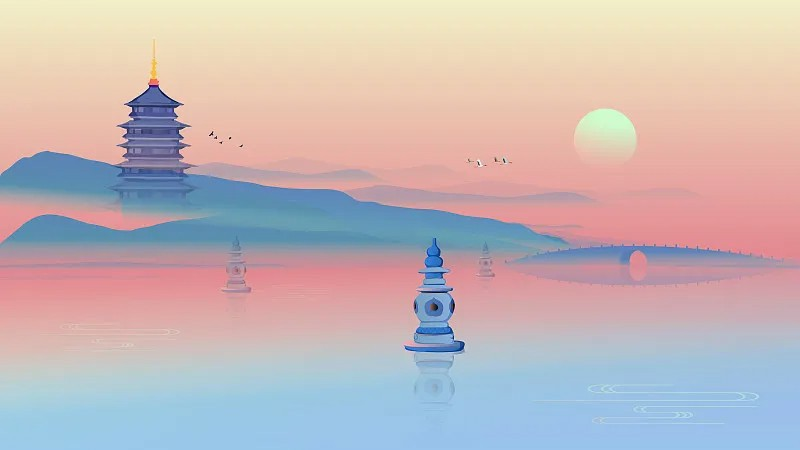Leifeng: (110, 39, 201, 218)
